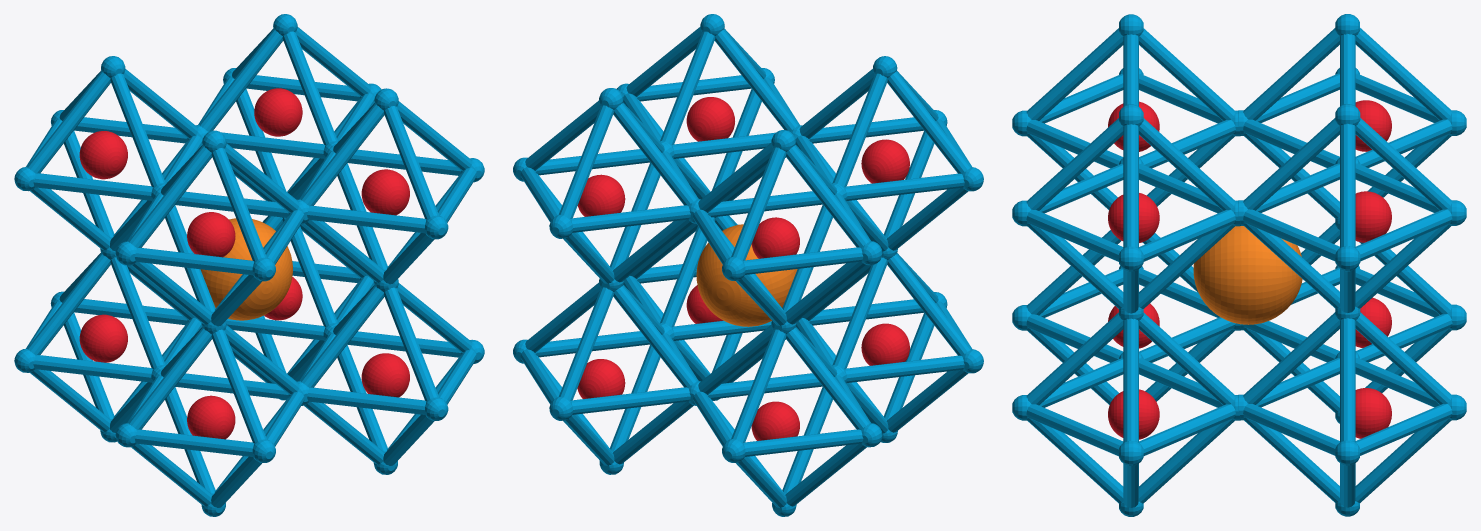
File: 3DPerovskite.dae
3 views of the same model, side by side, from view 1: azimuth 30°, elevation 25°; view 2: azimuth 150°, elevation 25°; view 3: azimuth 270°, elevation 25° (orthographic). The views are drawn at different scales.
Visible parts, largest first — view 1: obj_0; view 2: obj_0; view 3: obj_0.
Part boxes in pixels (box(x1,y1,x2,y2)): obj_0: box(14, 14, 484, 516); obj_0: box(513, 14, 983, 516); obj_0: box(1012, 14, 1466, 516).
Size of the model in its own units: 59.94 by 60.25 by 60.33.
